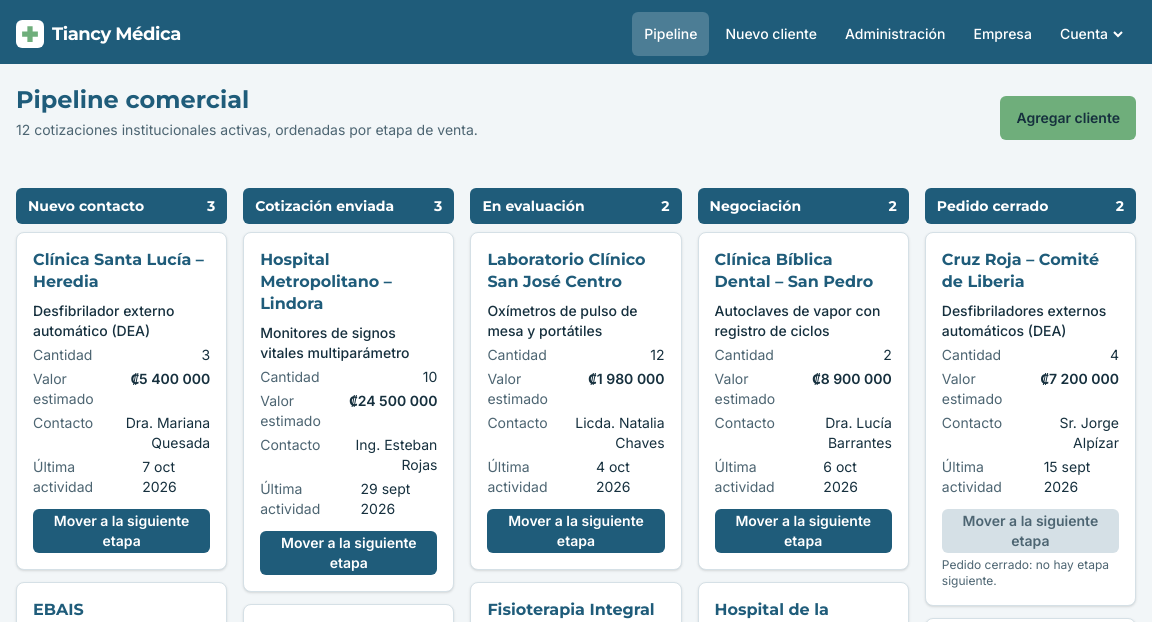
Test: AccountMenu › resets demo data only after confirming in the UI
Check: the heading "Pipeline comercial" is shown, box [16,85,249,114]
Click the button "Cuenta" at x=1092, y=34, box [1048,12,1136,56]
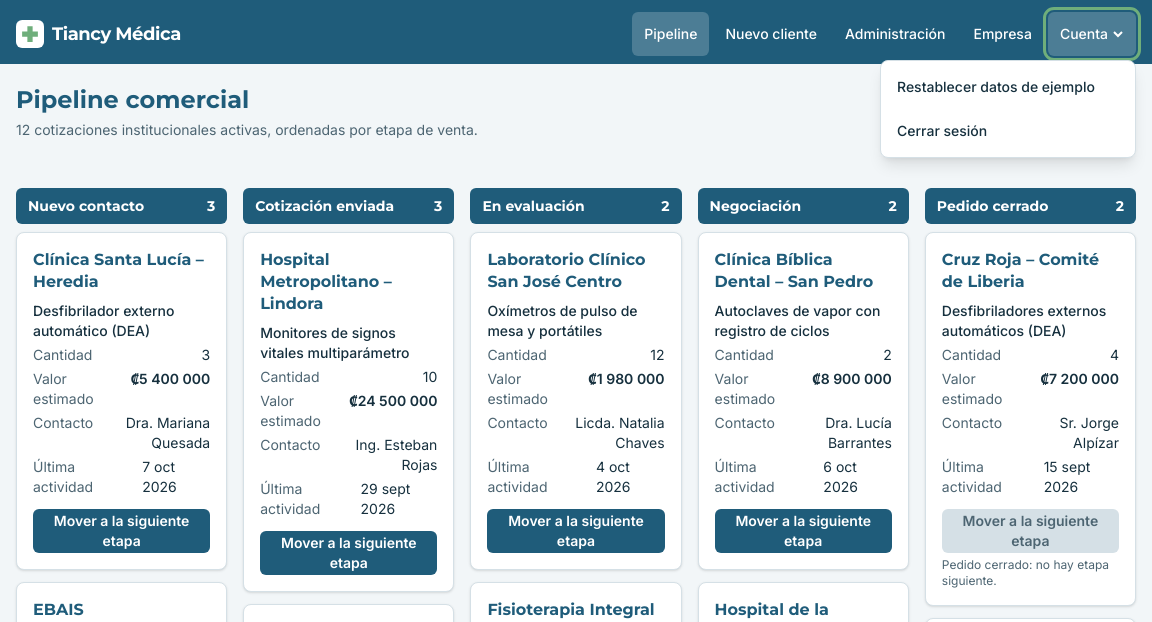
Click the button "Restablecer datos de ejemplo" at x=1008, y=87, box [885,65,1131,109]
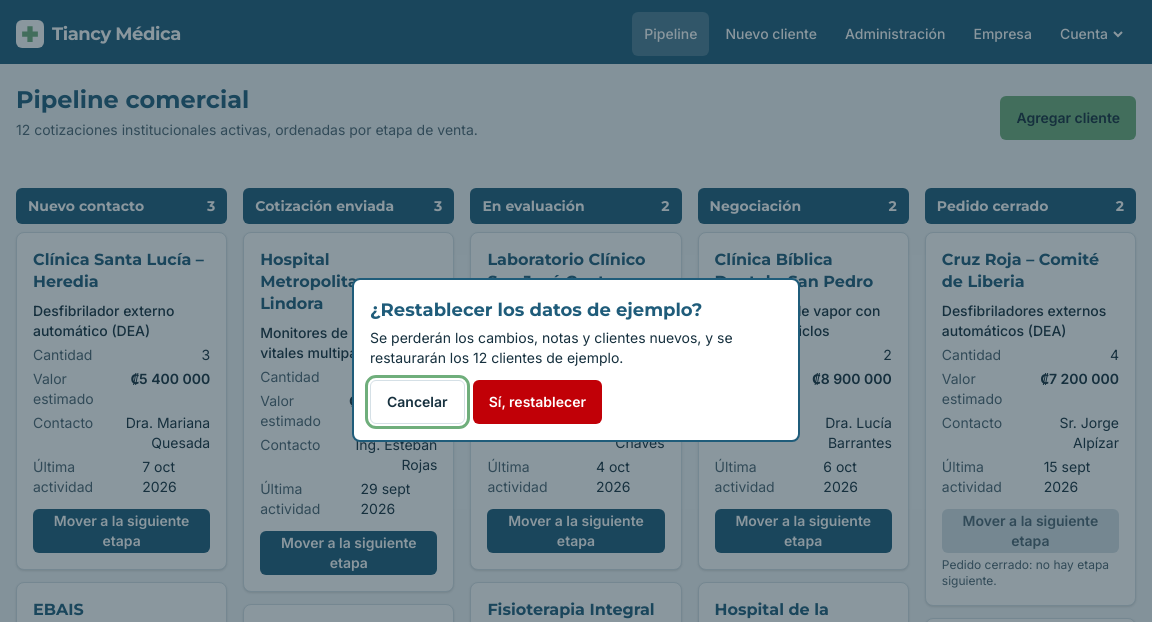
Check: the dialog shows "Se perderán los cambios", box [370,329,733,366]
Click the button "Cancelar" at x=417, y=402, box [370,380,465,424]
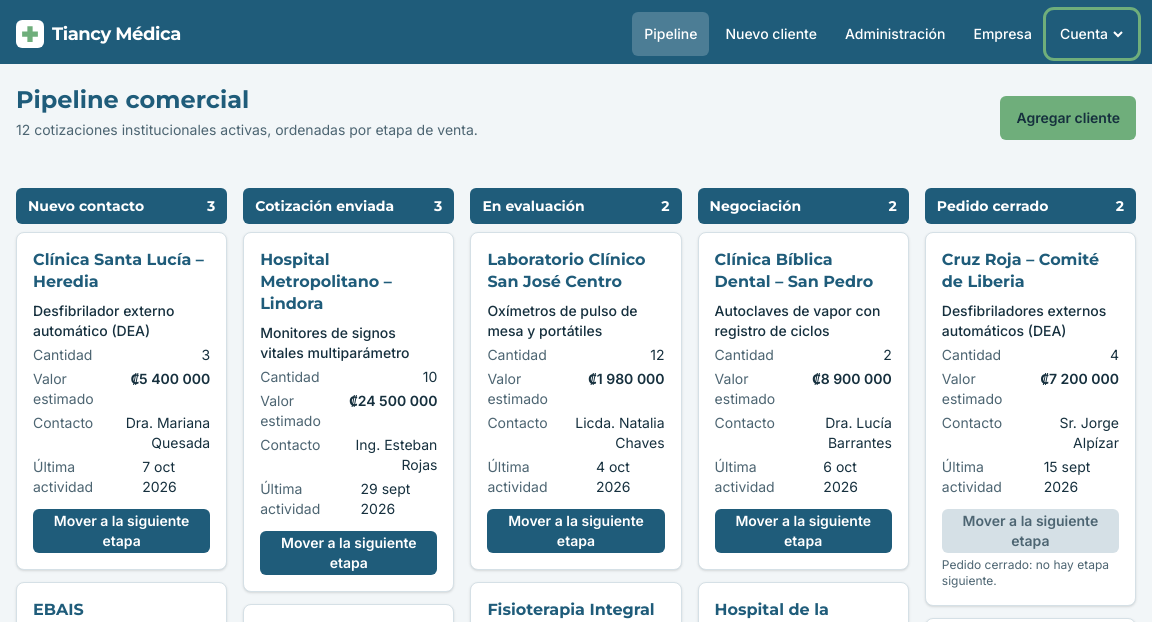
Check: the dialog is gone
Click the button "Cuenta" at x=1092, y=34, box [1048,12,1136,56]
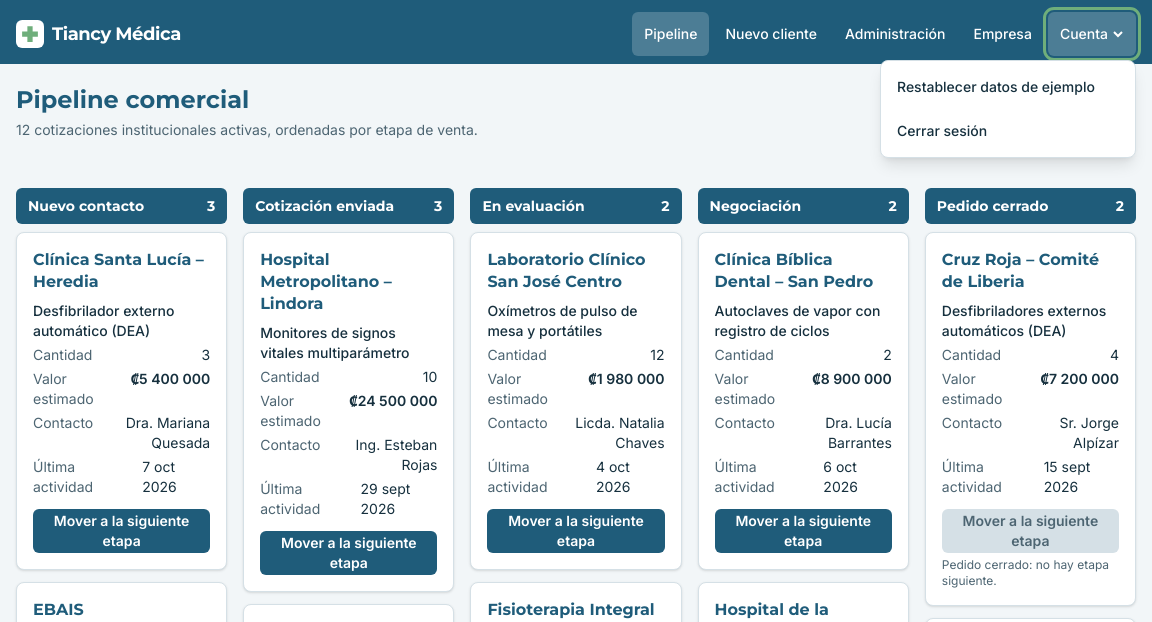
Click the button "Restablecer datos de ejemplo" at x=1008, y=87, box [885,65,1131,109]
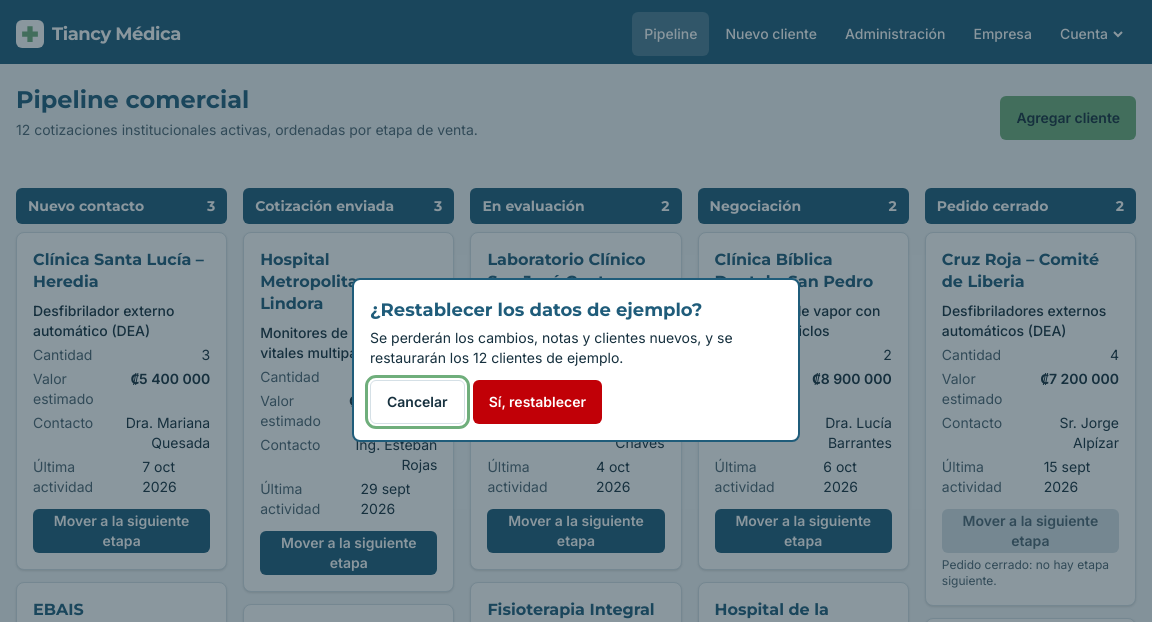
Click the button "Sí, restablecer" at x=537, y=402, box [473,380,602,424]
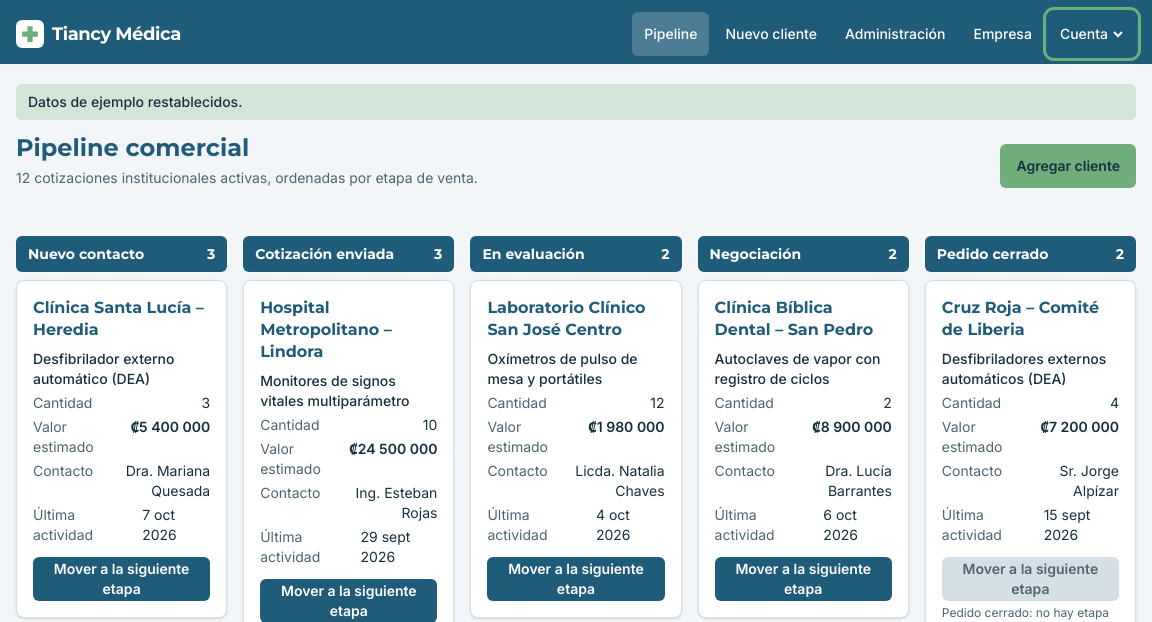
Check: the dialog is gone
Check: the text "Datos de ejemplo restablecidos." is shown, box [16,84,1136,120]
